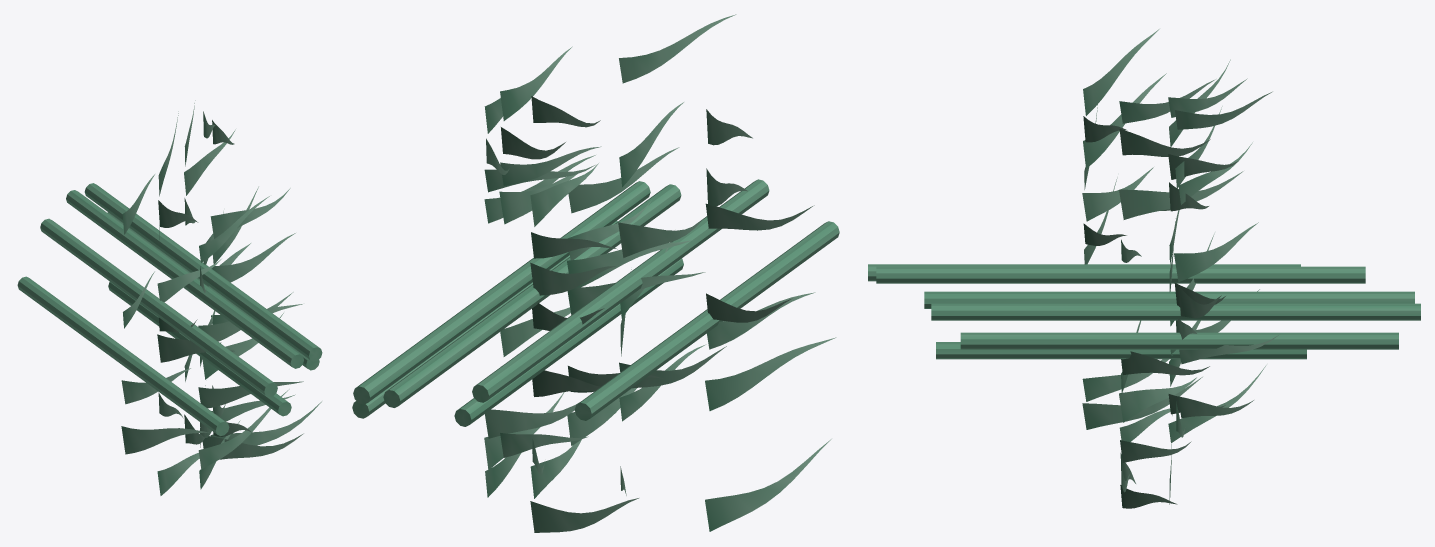
File: mesh-plant-046-corkscrew-stem_LOD0.glb
The picture shows the model from 3 angles, left to right: view 1: azimuth 30°, elevation 25°; view 2: azimuth 150°, elevation 25°; view 3: azimuth 270°, elevation 25°; orthographic projection. The views are drawn at different scales.
Visible parts, largest first — view 1: geometry_0; view 2: geometry_0; view 3: geometry_0.
Part boxes in pixels (bbox=[...]): geometry_0: bbox=[17, 100, 322, 495]; geometry_0: bbox=[352, 14, 839, 532]; geometry_0: bbox=[868, 29, 1420, 508].
Bounding box in the file's own units: 0.9195 × 1.15 × 1.29.
